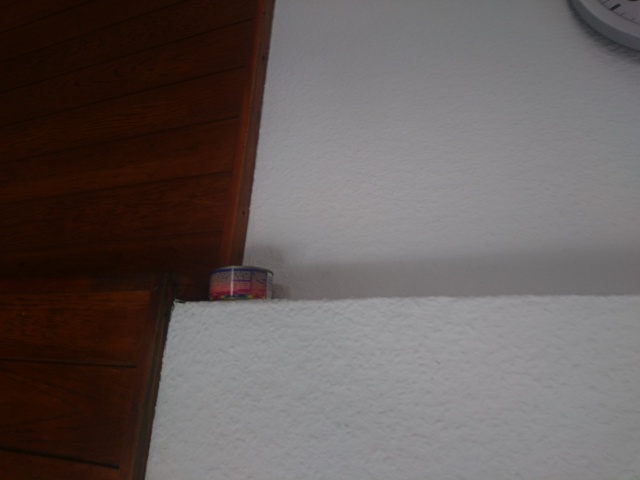Giana Tuna Salad Mexico 185g: (205, 263, 275, 302)
